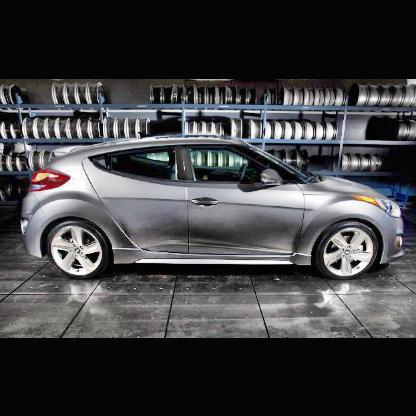Hyundai Veloster Hatchback 2012: (23, 137, 408, 282)
